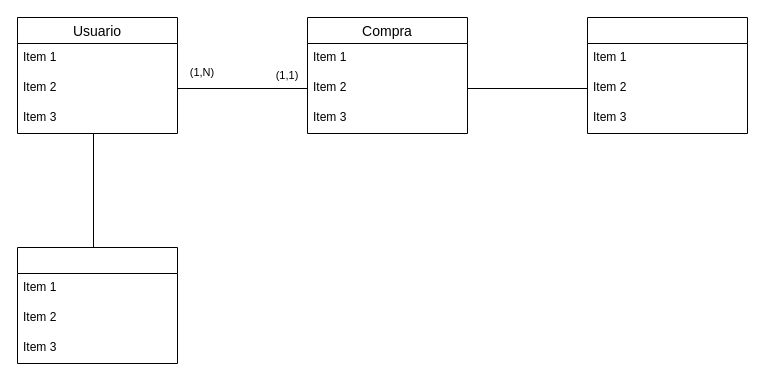
Image size: 765x384. Some labels were removed from this diagram. The box of each missing label's shape, as (x1, y1, x2, y2) in pixels:
Jogo: (586, 16, 748, 134)
Lista de desejos: (16, 246, 178, 364)
